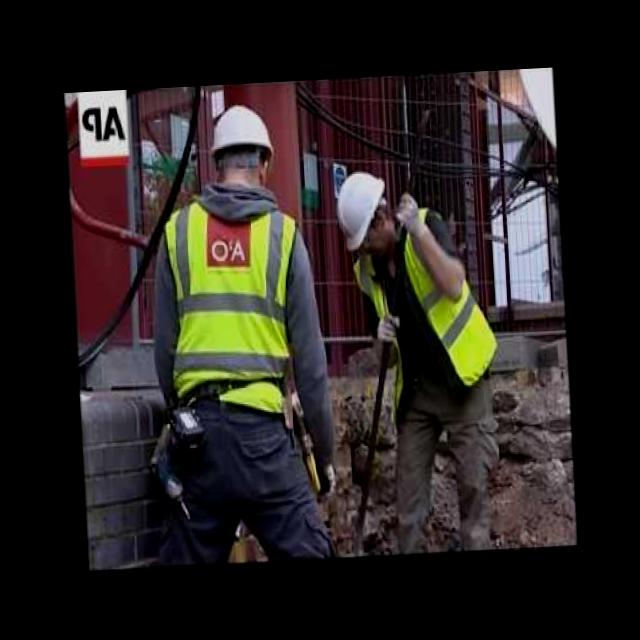helmet: (198, 100, 277, 171), (336, 169, 392, 262)
vest: (160, 200, 308, 422), (363, 200, 492, 419)
